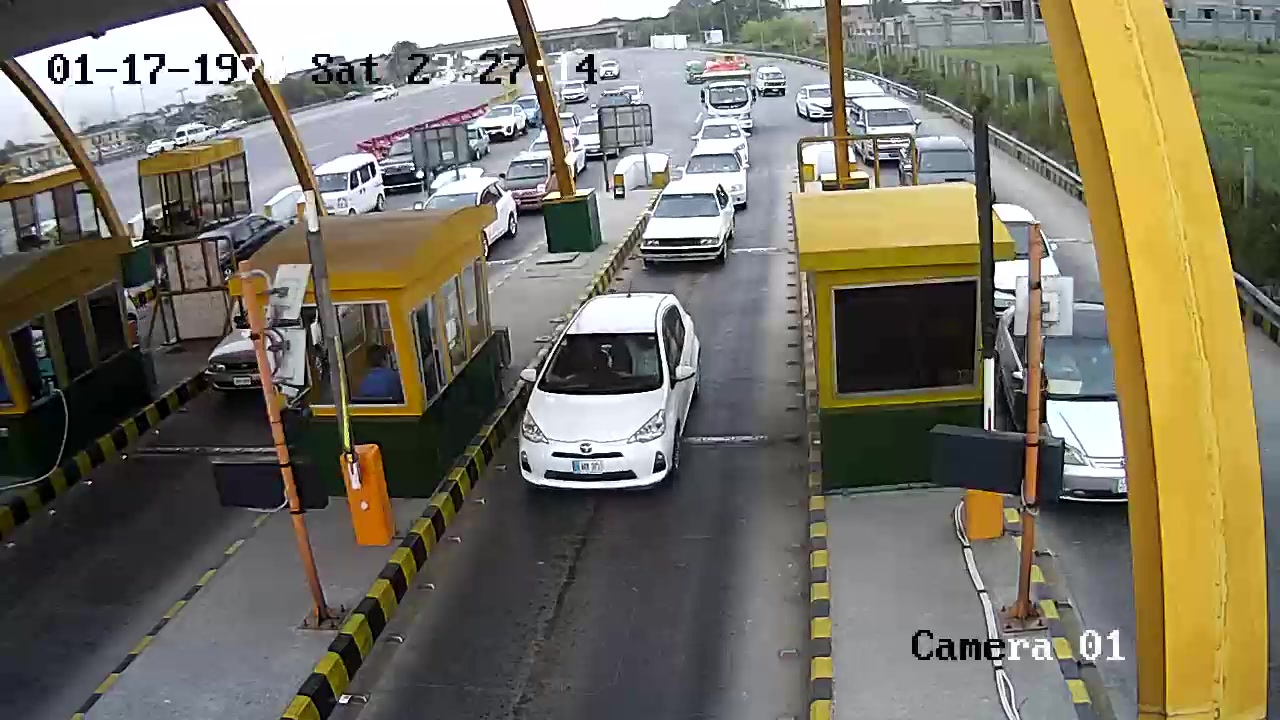F1: (511, 282, 707, 499)
